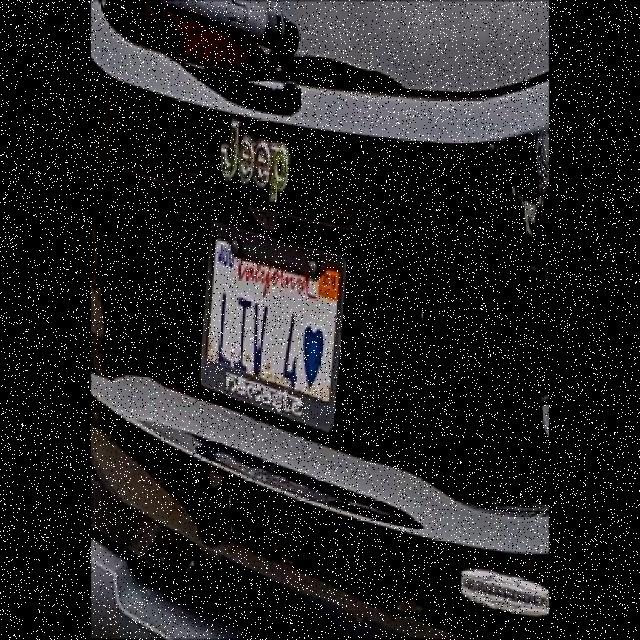licenseplate: (204, 225, 336, 422)
